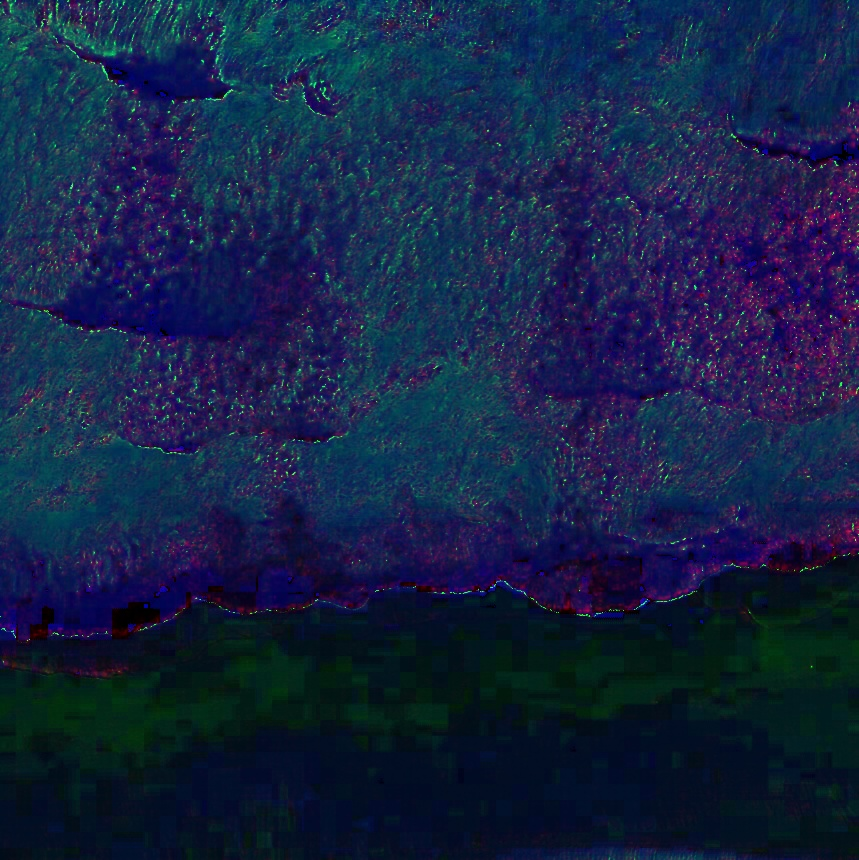rip_current: (263, 100, 601, 553)
